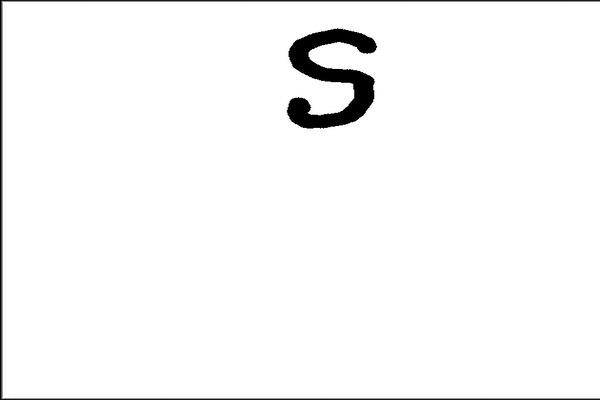S: (277, 18, 383, 132)
